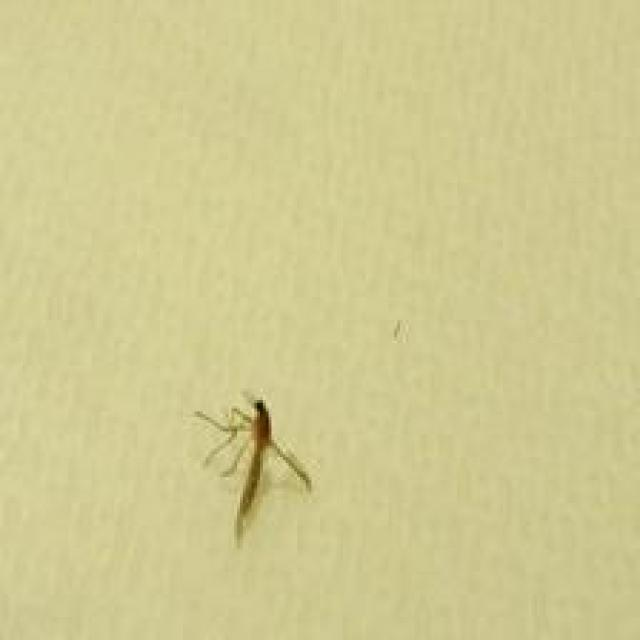Culex: (193, 393, 313, 547)
